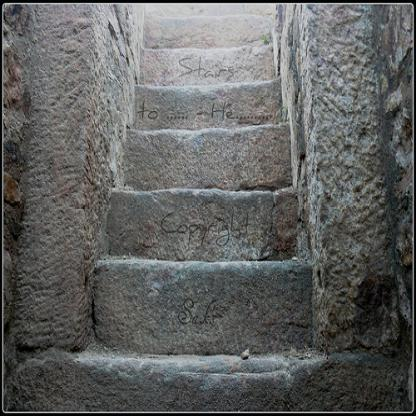stairs: (127, 123, 297, 361)
